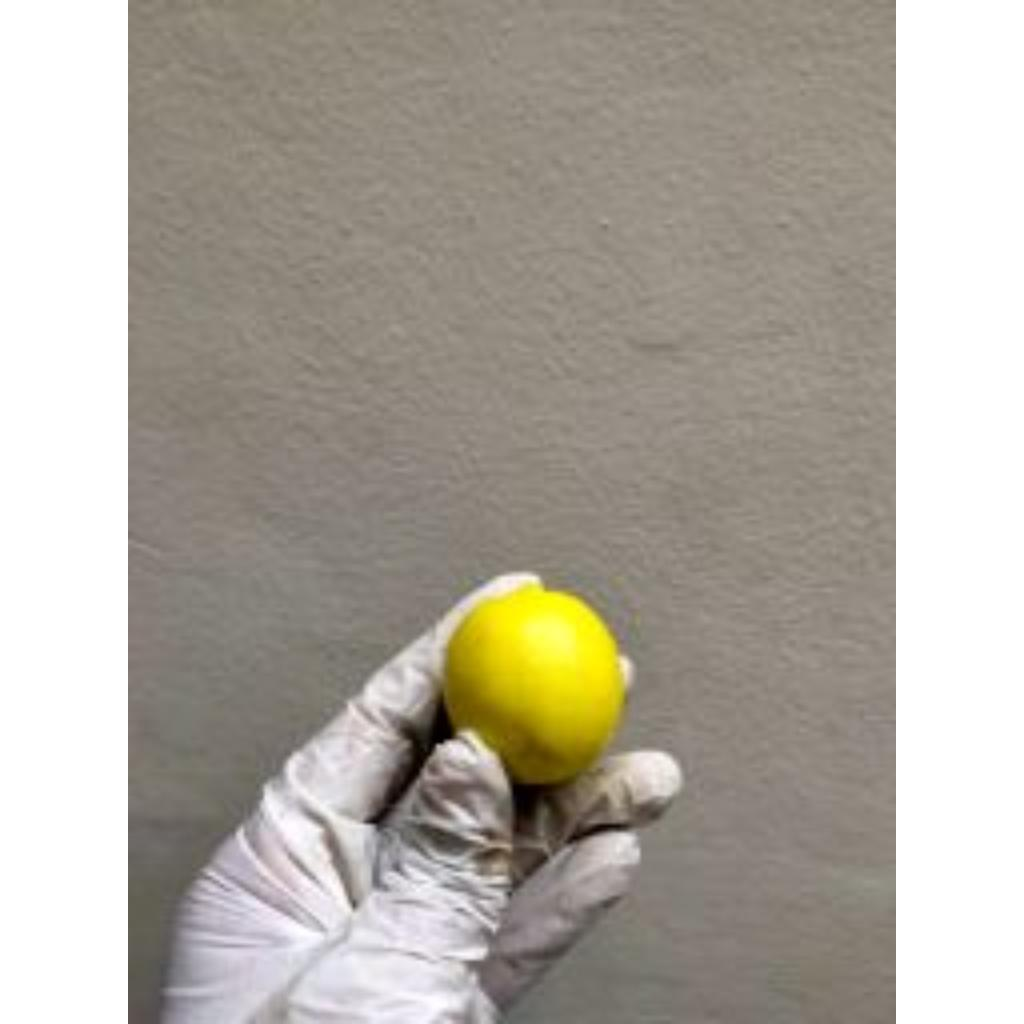lemon: (444, 586, 624, 783)
